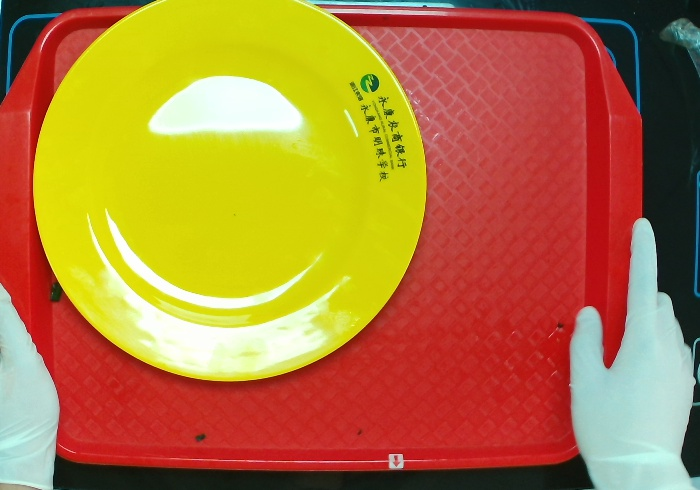YKMZ-Huang_Se_Mian_Pan: (25, 1, 437, 414)
